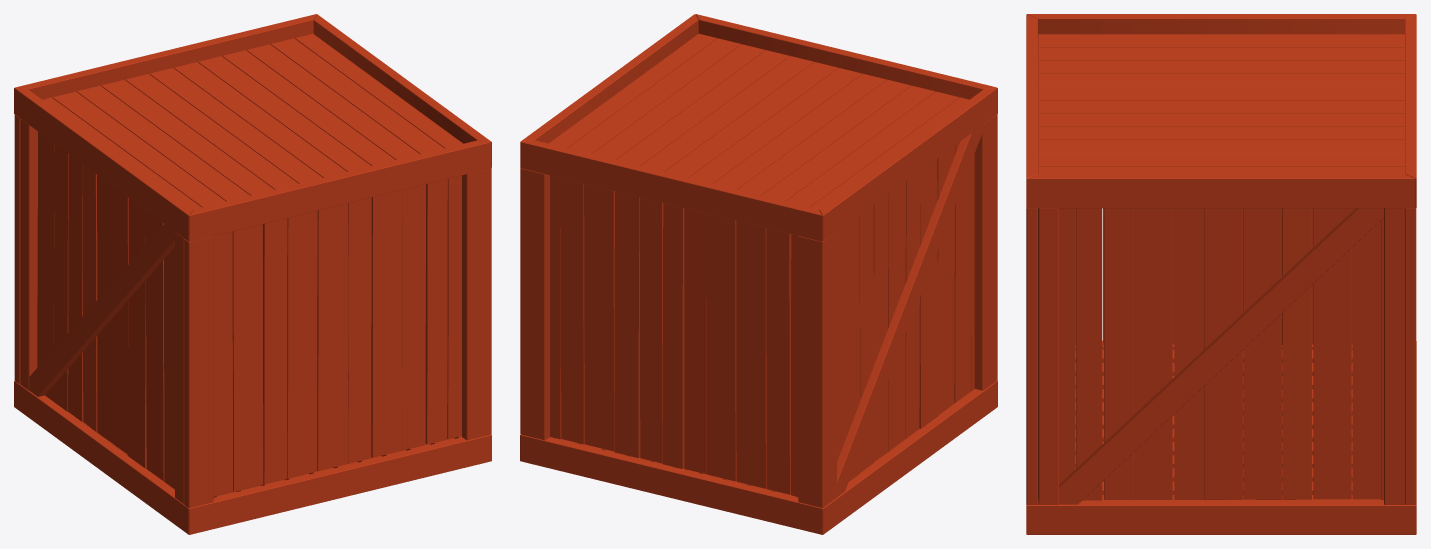
The model's file is yashik_gold.FBX.
3 views of the same model, side by side, from view 1: azimuth 30°, elevation 25°; view 2: azimuth 150°, elevation 25°; view 3: azimuth 270°, elevation 25° (orthographic). The views are drawn at different scales.
Visible parts, largest first — view 1: Floor_Object009, Floor_Object007, Group001, Floor_Object008, Rectangle007, Rectangle004, Rectangle005; view 2: Floor_Object010, Group001, Floor_Object007, Floor_Object008, Rectangle007, Rectangle005; view 3: Floor_Object011, Floor_Object007, Group001, Rectangle007, Rectangle005, Floor_Object012, Floor_Object008.
Boxes of the visible parts, x1,y1,x2,y2 form: Floor_Object009: (213, 175, 461, 496); Floor_Object007: (42, 34, 462, 209); Group001: (14, 14, 491, 534); Floor_Object008: (37, 131, 174, 489); Rectangle007: (14, 114, 491, 507); Rectangle004: (189, 435, 491, 534); Rectangle005: (313, 14, 491, 167); Floor_Object010: (550, 175, 798, 496); Group001: (520, 14, 997, 534); Floor_Object007: (549, 33, 969, 209); Floor_Object008: (837, 141, 974, 481); Rectangle007: (520, 114, 997, 507); Rectangle005: (520, 14, 698, 143); Floor_Object011: (1038, 208, 1383, 500); Floor_Object007: (1038, 34, 1404, 173); Group001: (1026, 14, 1416, 534); Rectangle007: (1026, 208, 1416, 504); Rectangle005: (1026, 174, 1415, 208); Floor_Object012: (1038, 345, 1383, 500); Floor_Object008: (1075, 208, 1352, 347).
Bounding box in the file's own units: 33.45 × 33.7 × 33.44.
